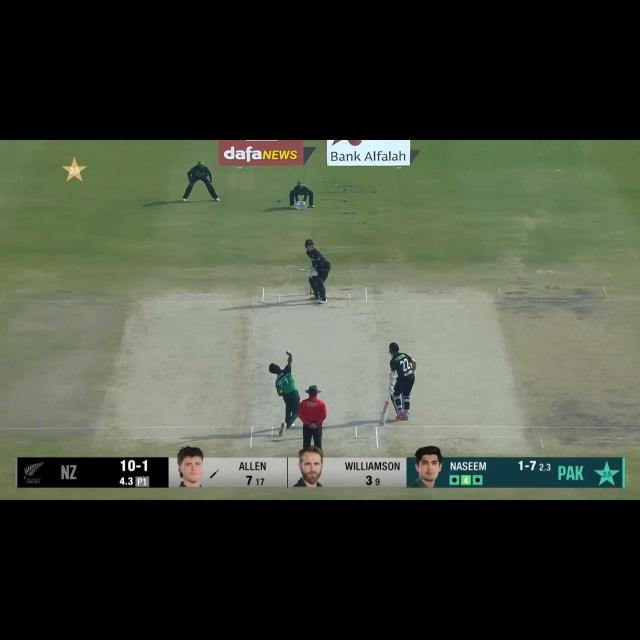bat: (378, 402, 391, 427), (296, 266, 312, 274)
toe: (378, 418, 387, 427), (296, 267, 302, 272)
